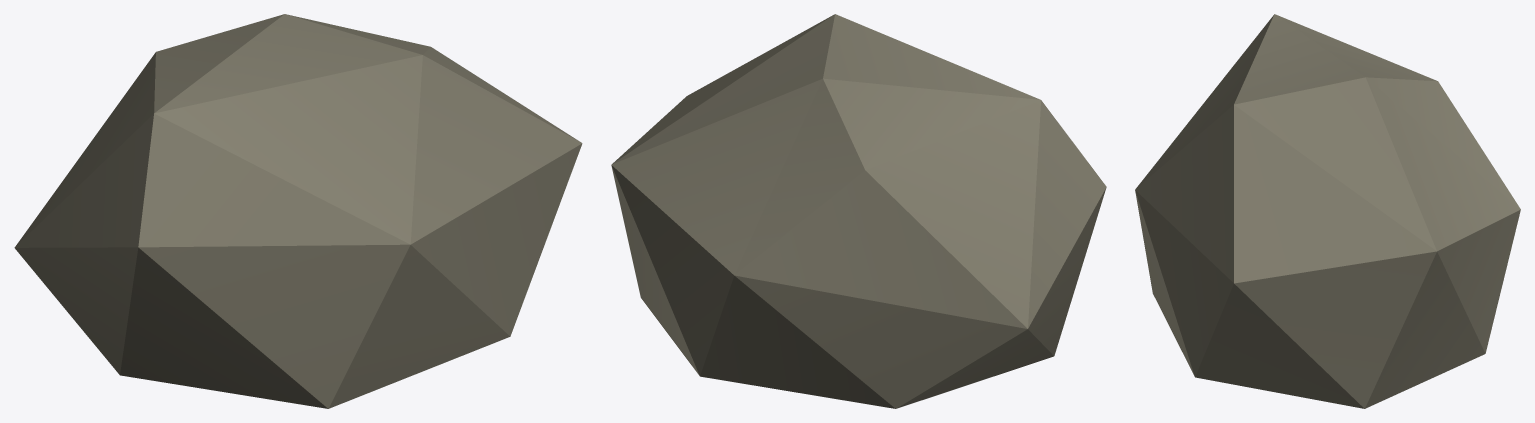
The model's file is rock-b-light.glb.
The picture shows the model from 3 angles, left to right: view 1: azimuth 30°, elevation 25°; view 2: azimuth 150°, elevation 25°; view 3: azimuth 270°, elevation 25°; orthographic projection. The views are drawn at different scales.
Parts seen in each view (by area): view 1: rock-b.001; view 2: rock-b.001; view 3: rock-b.001.
Boxes of the visible parts, <box> form: rock-b.001: <box>14,14,582,408</box>; rock-b.001: <box>611,14,1106,408</box>; rock-b.001: <box>1135,14,1520,408</box>.
Size of the model in its own units: 0.8208 by 0.48 by 0.673.
